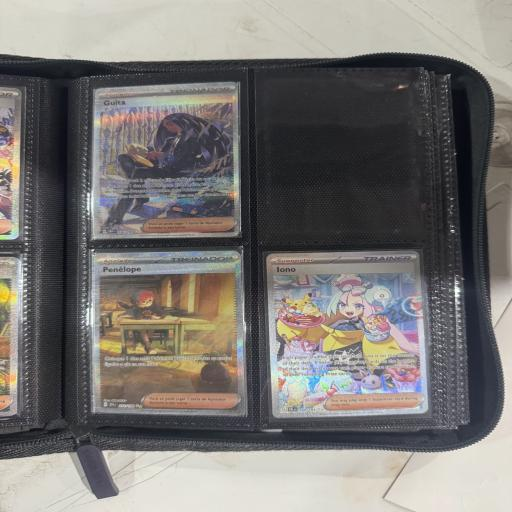card: (267, 248, 431, 419), (90, 250, 245, 418), (90, 81, 241, 241)
